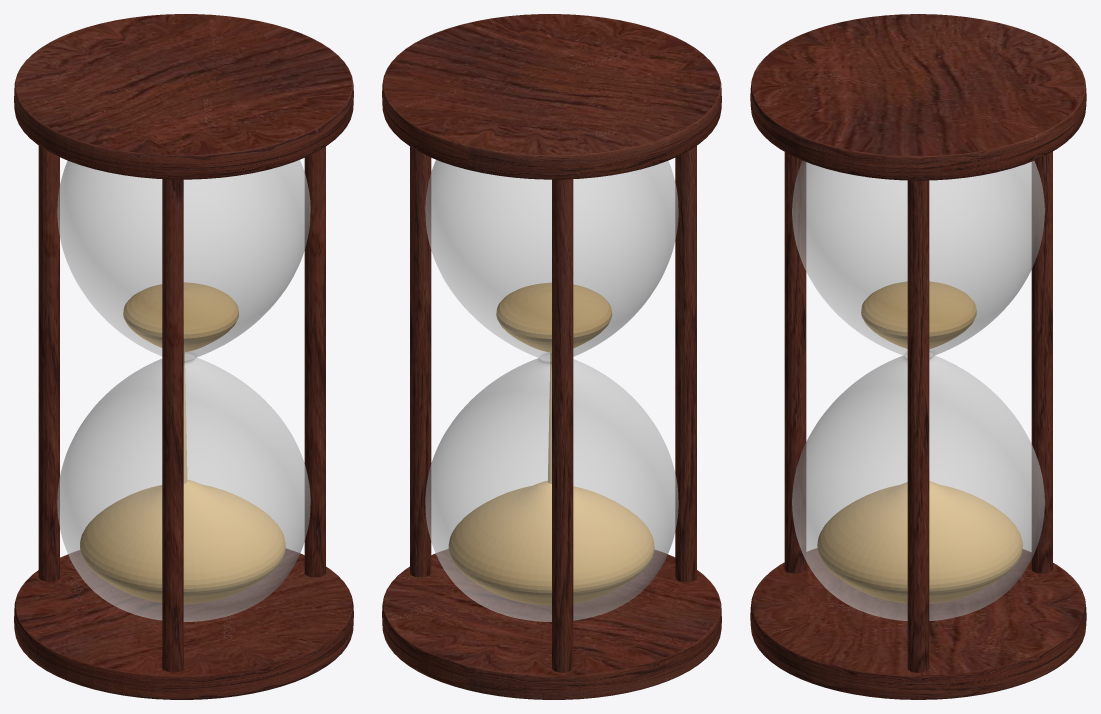
File: sandglass5.fbx
3 views of the same model, side by side, from view 1: azimuth 30°, elevation 25°; view 2: azimuth 150°, elevation 25°; view 3: azimuth 270°, elevation 25° (orthographic).
Parts seen in each view (by area): view 1: glass, tree_bottom, sand_bottom, tree_cylinder.002, tree_cylinder.001, tree_cylinder, sand_top; view 2: glass, tree_bottom, sand_bottom, tree_cylinder.001, tree_cylinder.002, tree_cylinder, sand_top; view 3: glass, tree_bottom, sand_bottom, tree_cylinder, tree_cylinder.002, tree_cylinder.001, sand_top.
Part boxes in pixels (bbox=[...]): glass: bbox=[57, 160, 310, 621]; tree_bottom: bbox=[14, 14, 353, 699]; sand_bottom: bbox=[80, 480, 285, 604]; tree_cylinder.002: bbox=[162, 179, 183, 672]; tree_cylinder.001: bbox=[38, 145, 59, 581]; tree_cylinder: bbox=[304, 146, 325, 577]; sand_top: bbox=[123, 282, 238, 352]; glass: bbox=[425, 160, 678, 621]; tree_bottom: bbox=[382, 14, 721, 699]; sand_bottom: bbox=[448, 480, 654, 605]; tree_cylinder.001: bbox=[552, 179, 573, 672]; tree_cylinder.002: bbox=[675, 146, 696, 581]; tree_cylinder: bbox=[410, 146, 431, 577]; sand_top: bbox=[496, 282, 612, 352]; glass: bbox=[792, 161, 1044, 620]; tree_bottom: bbox=[750, 14, 1086, 699]; sand_bottom: bbox=[817, 481, 1022, 603]; tree_cylinder: bbox=[907, 180, 929, 672]; tree_cylinder.002: bbox=[784, 152, 806, 573]; tree_cylinder.001: bbox=[1031, 151, 1052, 573]; sand_top: bbox=[861, 281, 976, 348].
Size of the model in its own units: 370 by 653 by 366.
